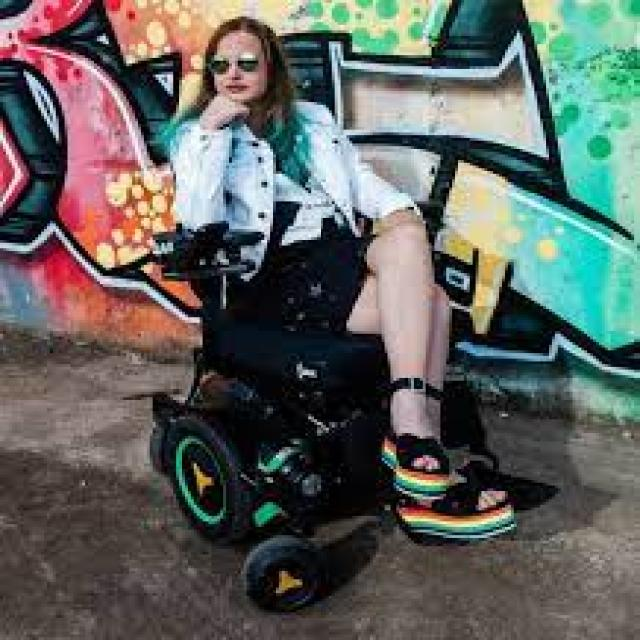wheelchairs: (142, 151, 481, 622)
